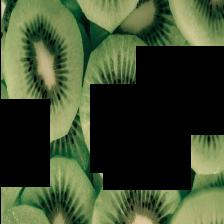green: (78, 34, 168, 189), (2, 0, 82, 142), (167, 42, 224, 174)
